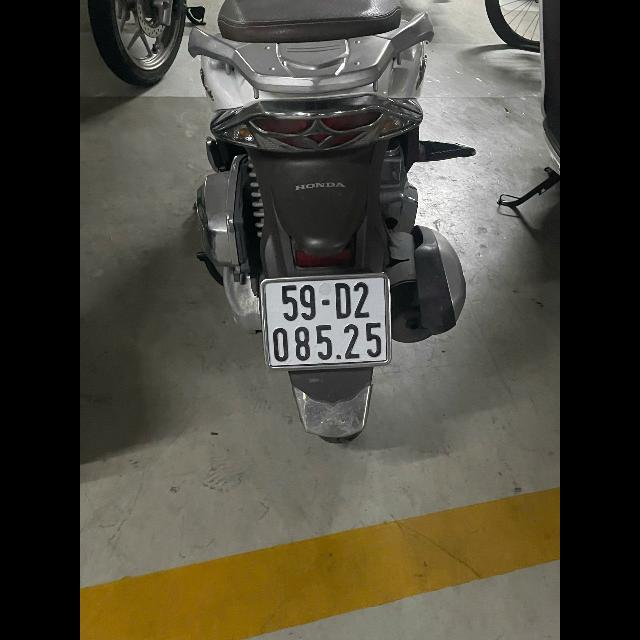BienSoXe: (260, 272, 392, 371)
